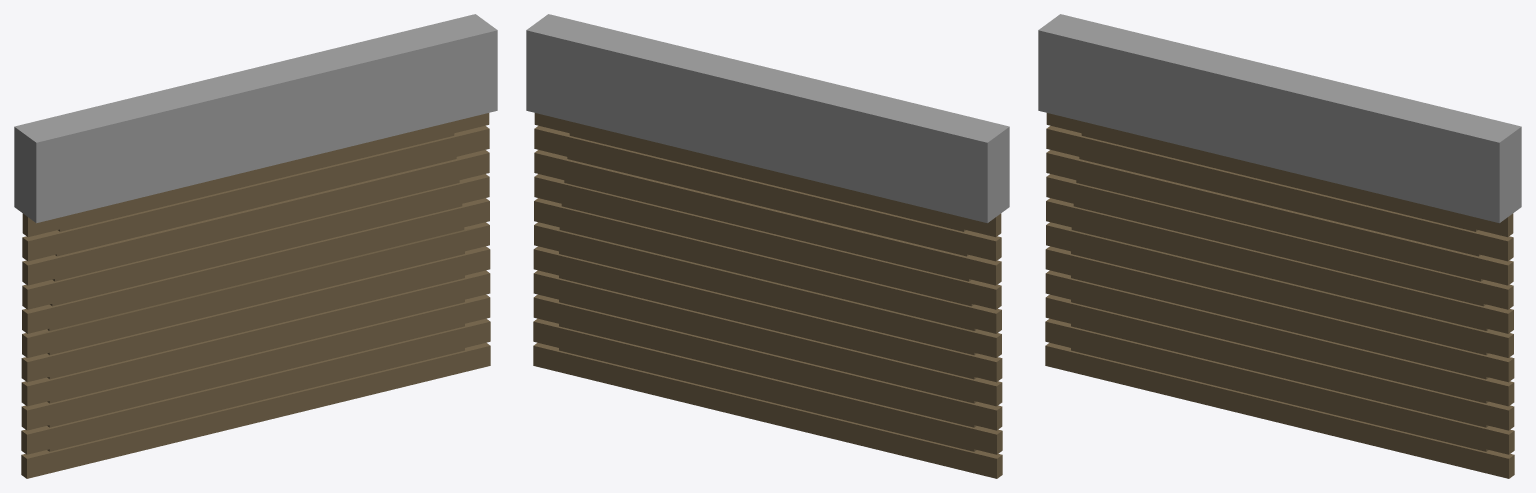
The model's file is persiana.FBX.
3 renders of one model, left to right at view 1: azimuth 30°, elevation 25°; view 2: azimuth 150°, elevation 25°; view 3: azimuth 330°, elevation 25°, orthographic.
Visible parts, largest first — view 1: Cube; view 2: Cube; view 3: Cube.
Part boxes in pixels (x1,y1,x2,y2): Cube: (14, 14, 497, 478); Cube: (526, 14, 1009, 478); Cube: (1038, 14, 1521, 478).
Bounding box in the file's own units: 119 × 83.66 × 9.84.
